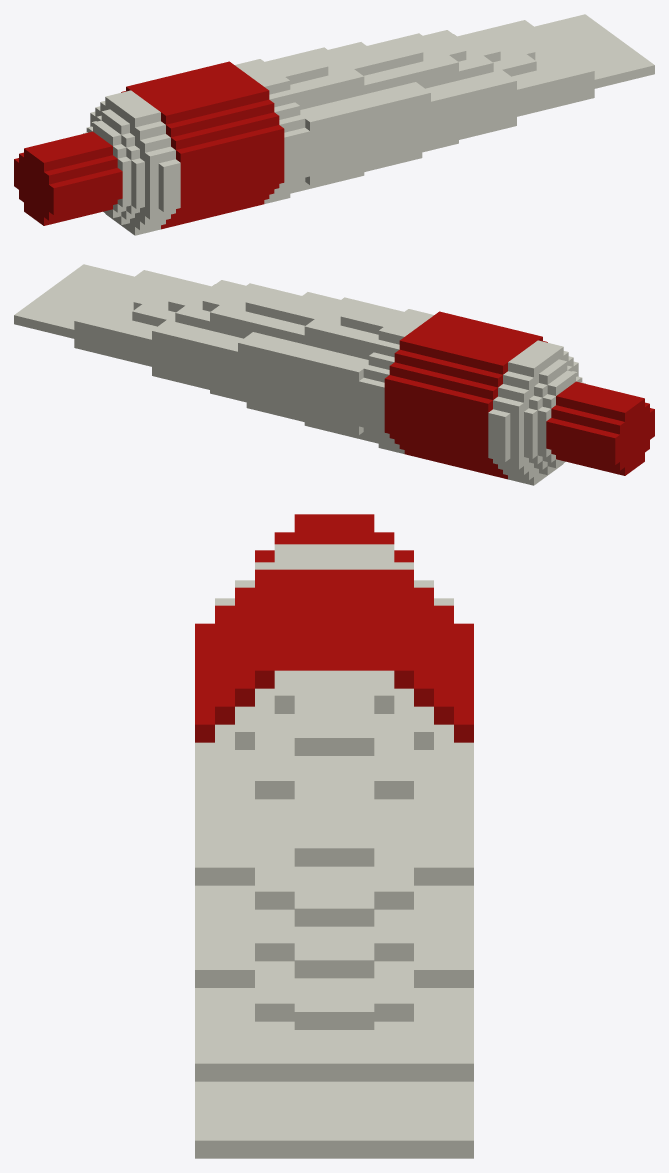
Rendered from anaesthetic_cream.glb.
3 views of the same model, one above another, from view 1: azimuth 30°, elevation 25°; view 2: azimuth 150°, elevation 25°; view 3: azimuth 270°, elevation 25° (orthographic). The views are drawn at different scales.
Parts seen in each view (by area): view 1: anaesthetic_cream:compound; view 2: anaesthetic_cream:compound; view 3: anaesthetic_cream:compound.
Part boxes in pixels (<box>): anaesthetic_cream:compound: <box>14,14,654,235</box>; anaesthetic_cream:compound: <box>14,264,654,485</box>; anaesthetic_cream:compound: <box>195,514,473,1158</box>.
Bounding box in the file's own units: 0.136 × 0.026 × 0.028.
